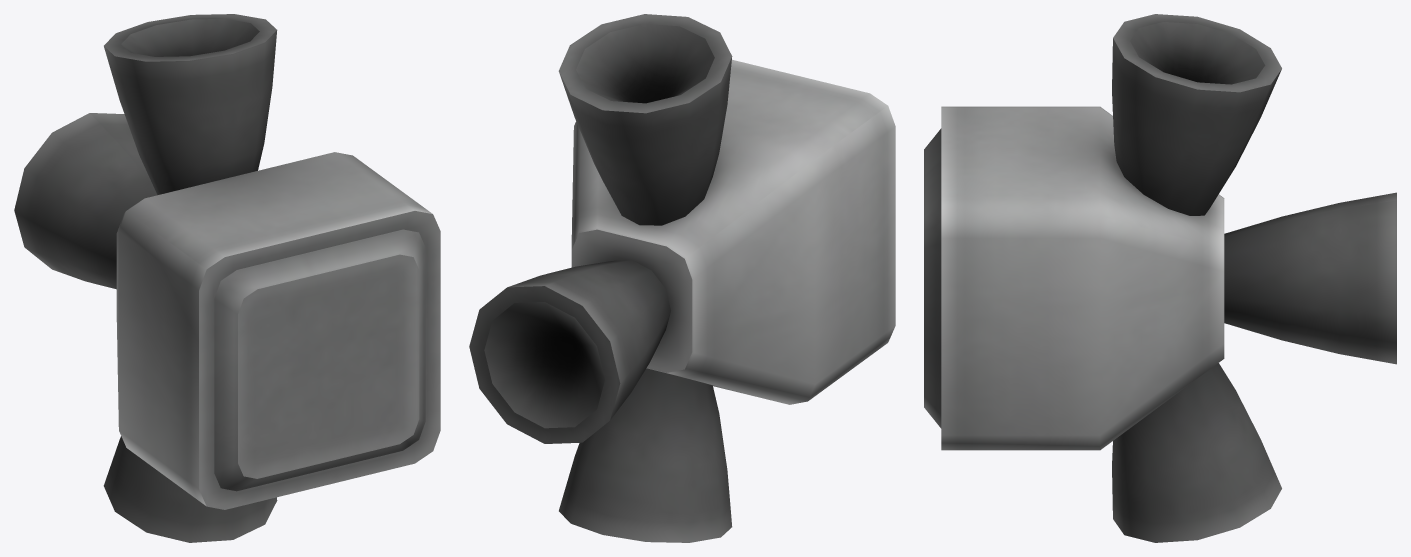
File: Tantares_RCS_3_E.obj
The picture shows the model from 3 angles, left to right: view 1: azimuth 30°, elevation 25°; view 2: azimuth 150°, elevation 25°; view 3: azimuth 270°, elevation 25°; orthographic projection.
Visible parts, largest first — view 1: Tantares_RCS_3_E; view 2: Tantares_RCS_3_E; view 3: Tantares_RCS_3_E.
Part boxes in pixels (bbox=[...]): Tantares_RCS_3_E: bbox=[14, 14, 440, 542]; Tantares_RCS_3_E: bbox=[469, 14, 895, 542]; Tantares_RCS_3_E: bbox=[924, 14, 1396, 542].
Size of the model in its own units: 0.1 by 0.1923 by 0.1712.
